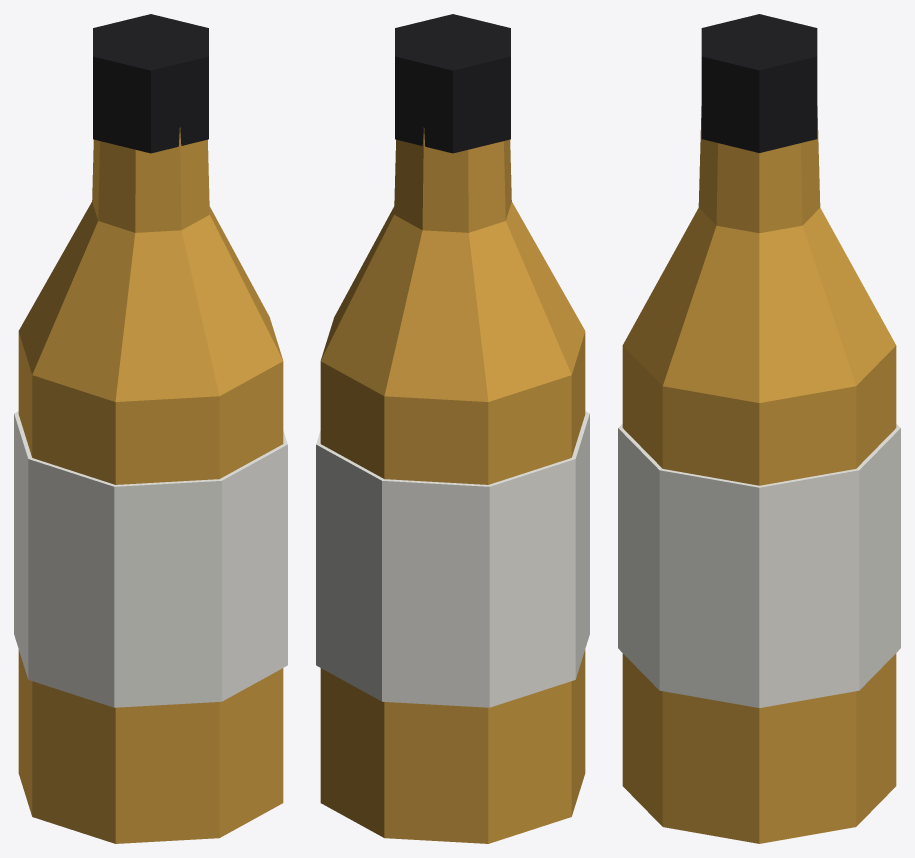
Rendered from FD_WhiskeyBottle_01.glb.
The picture shows the model from 3 angles, left to right: view 1: azimuth 30°, elevation 25°; view 2: azimuth 150°, elevation 25°; view 3: azimuth 270°, elevation 25°; orthographic projection.
Parts seen in each view (by area): view 1: FD_WhiskeyBottle_01; view 2: FD_WhiskeyBottle_01; view 3: FD_WhiskeyBottle_01.
Part boxes in pixels (left/top/right/bottom): FD_WhiskeyBottle_01: left=14, top=14, right=287, bottom=843; FD_WhiskeyBottle_01: left=316, top=14, right=589, bottom=843; FD_WhiskeyBottle_01: left=618, top=14, right=900, bottom=843.
Size of the model in its own units: 0.093 by 0.27 by 0.093.
Materials: 1 (1 with a texture image).
